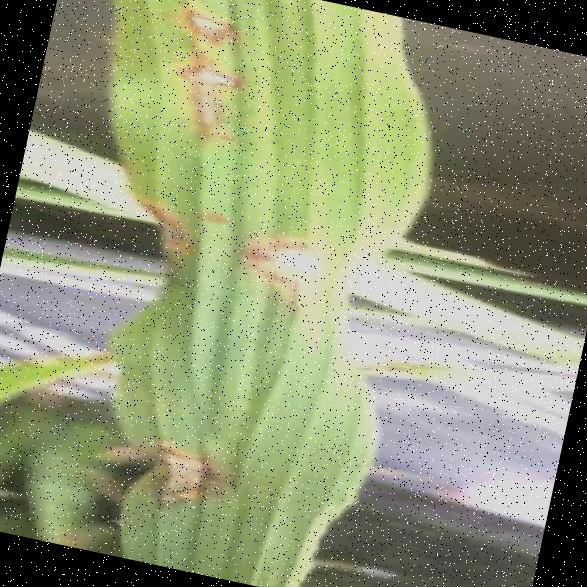Leaf_smut: (94, 155, 247, 317), (223, 179, 363, 347), (109, 386, 247, 518), (155, 44, 266, 146), (150, 0, 253, 66)
